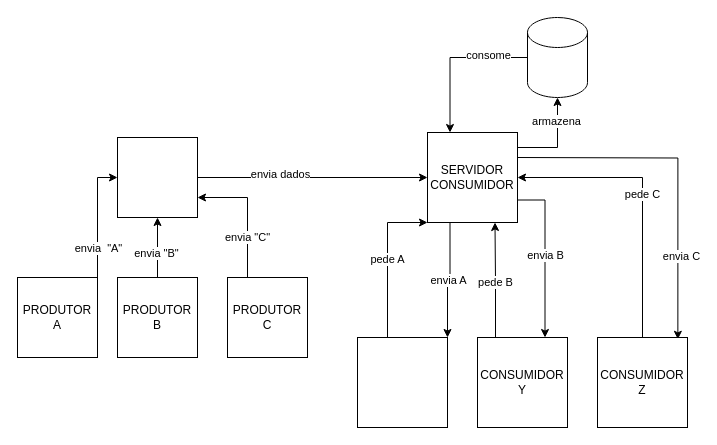
Image size: 717x445. Some labels were removed from this diagram. Each missing label, with the box of its shape:
CONSUMIDOR X: (356, 336, 448, 428)
LISTA: (526, 16, 588, 98)
SERVIDOR PRODUTOR: (116, 136, 198, 218)
